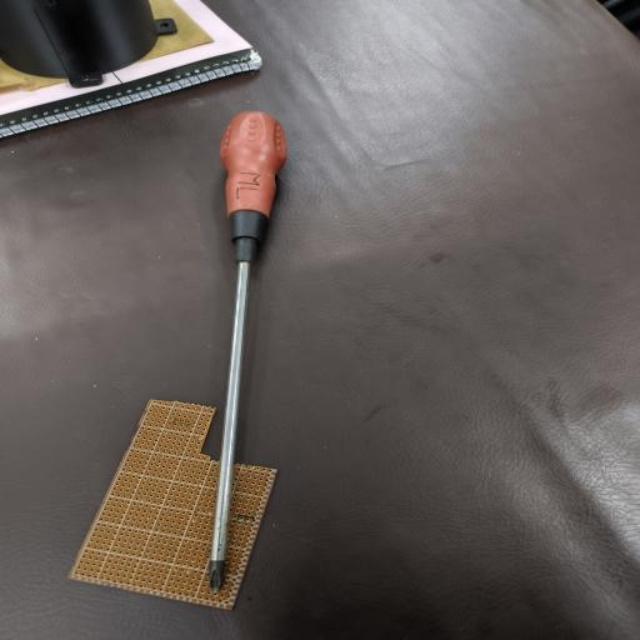screwdriver: (203, 110, 287, 596)
